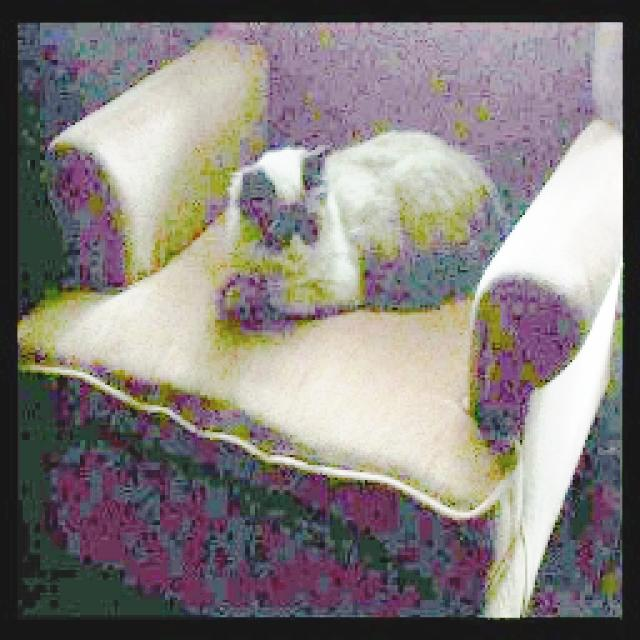cat: (180, 94, 538, 360)
